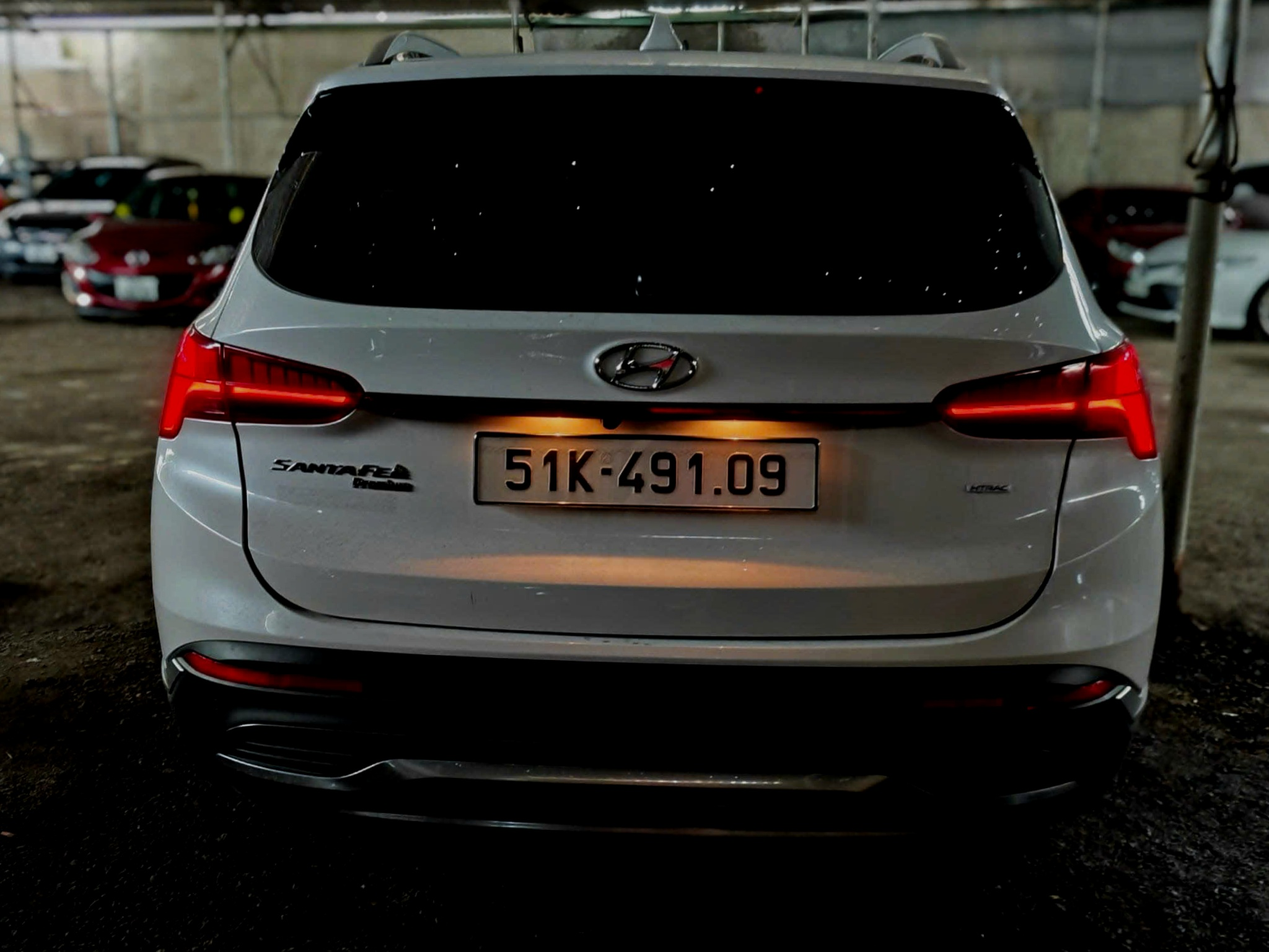Bien-so: (471, 428, 822, 515)
